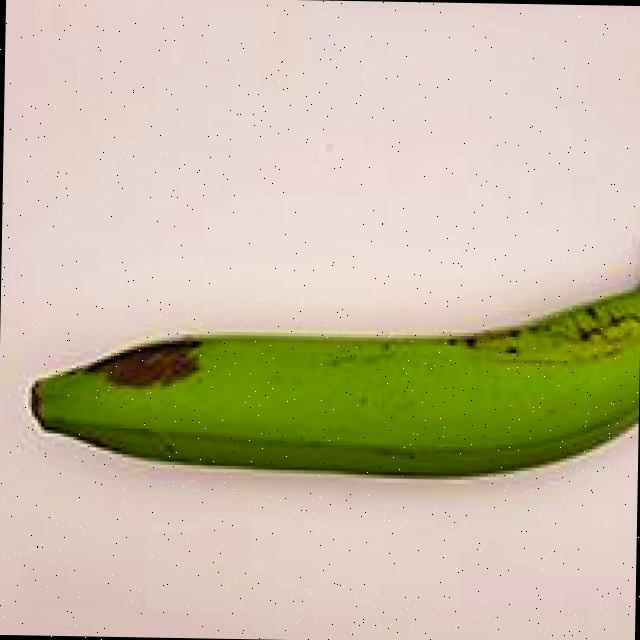Raw: (3, 183, 640, 501)
